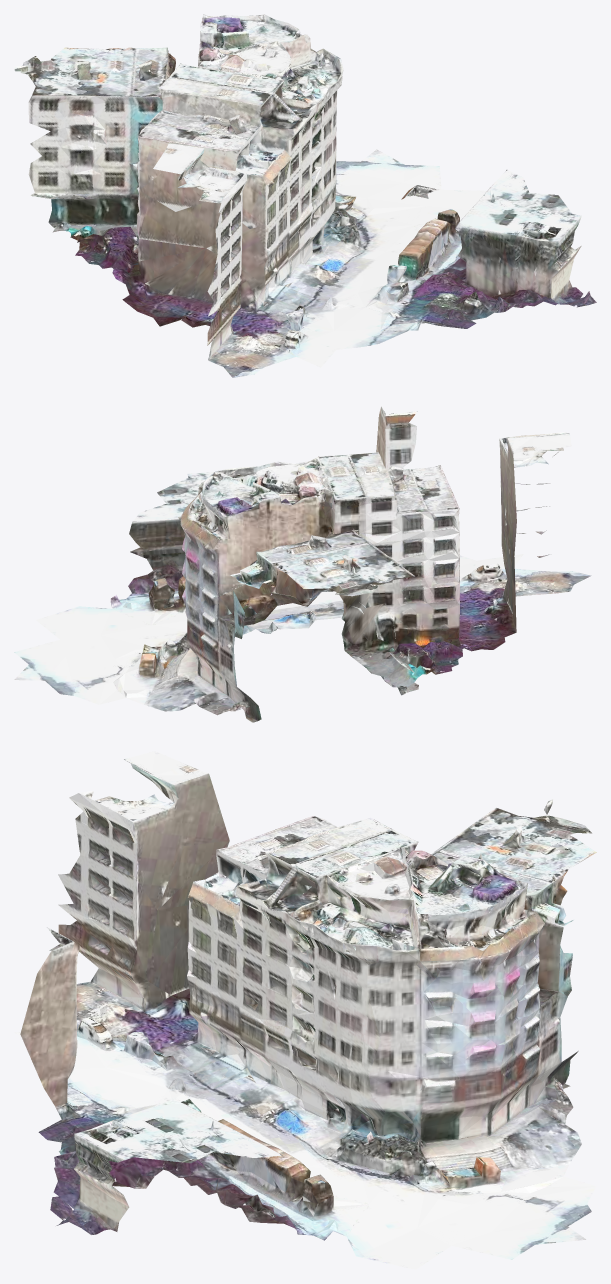
The model's file is Tile_+011_+018_L19_000022.glb.
The picture shows the model from 3 angles, top to bottom: view 1: azimuth 30°, elevation 25°; view 2: azimuth 150°, elevation 25°; view 3: azimuth 270°, elevation 25°; orthographic projection. The views are drawn at different scales.
Parts seen in each view (by area): view 1: rtc; view 2: rtc; view 3: rtc.
Part boxes in pixels (x1,y1,x2,y2): rtc: (14, 14, 596, 377); rtc: (14, 406, 591, 722); rtc: (14, 751, 596, 1269).
Size of the model in its own units: 63.02 by 28.43 by 58.69.
1 material, 1 textured.
